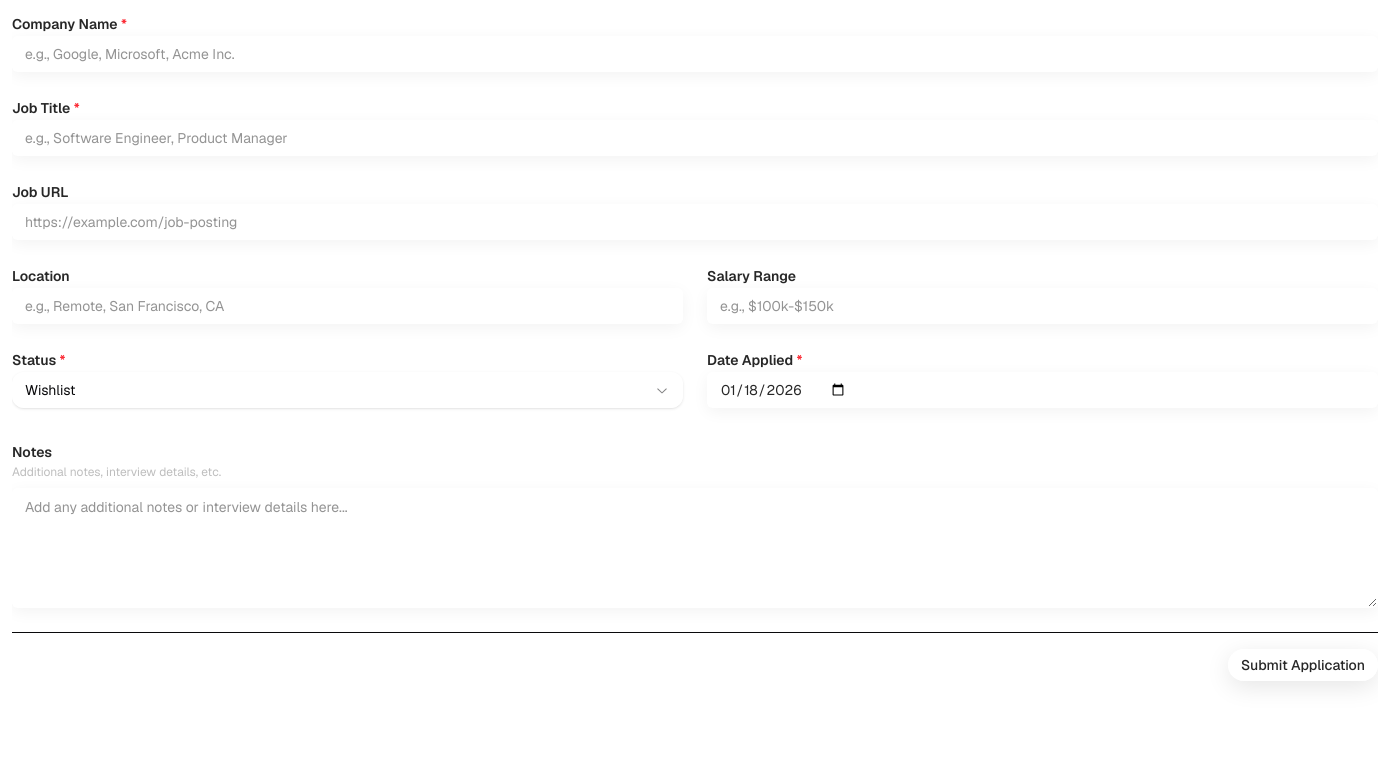
Test case: ApplicationForm › Validation - URL Format › should show error for invalid URL format
Type "Test Company" into the field labelled "Company Name *" at (695, 54), box [12, 36, 1378, 72]
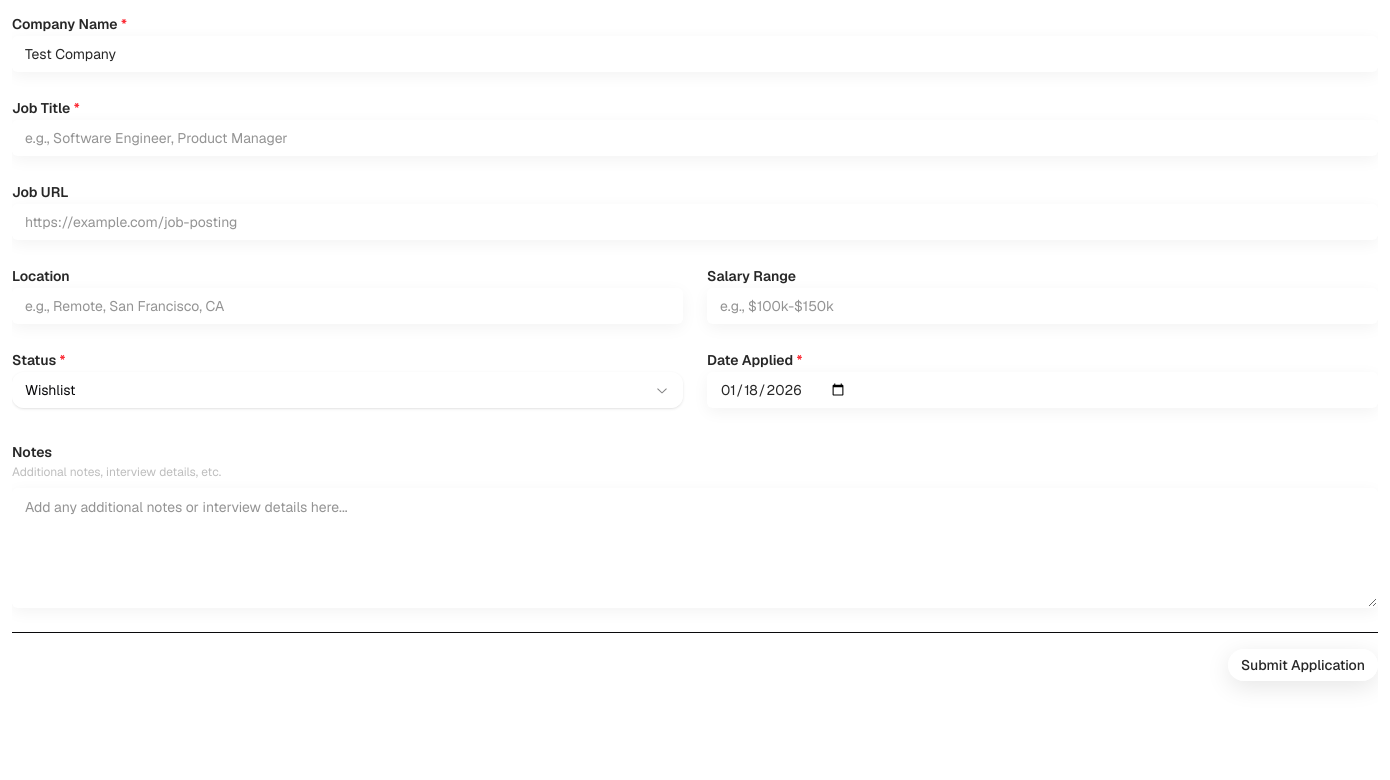
Type "Software Engineer" into the field labelled "Job Title *" at (695, 138), box [12, 120, 1378, 156]
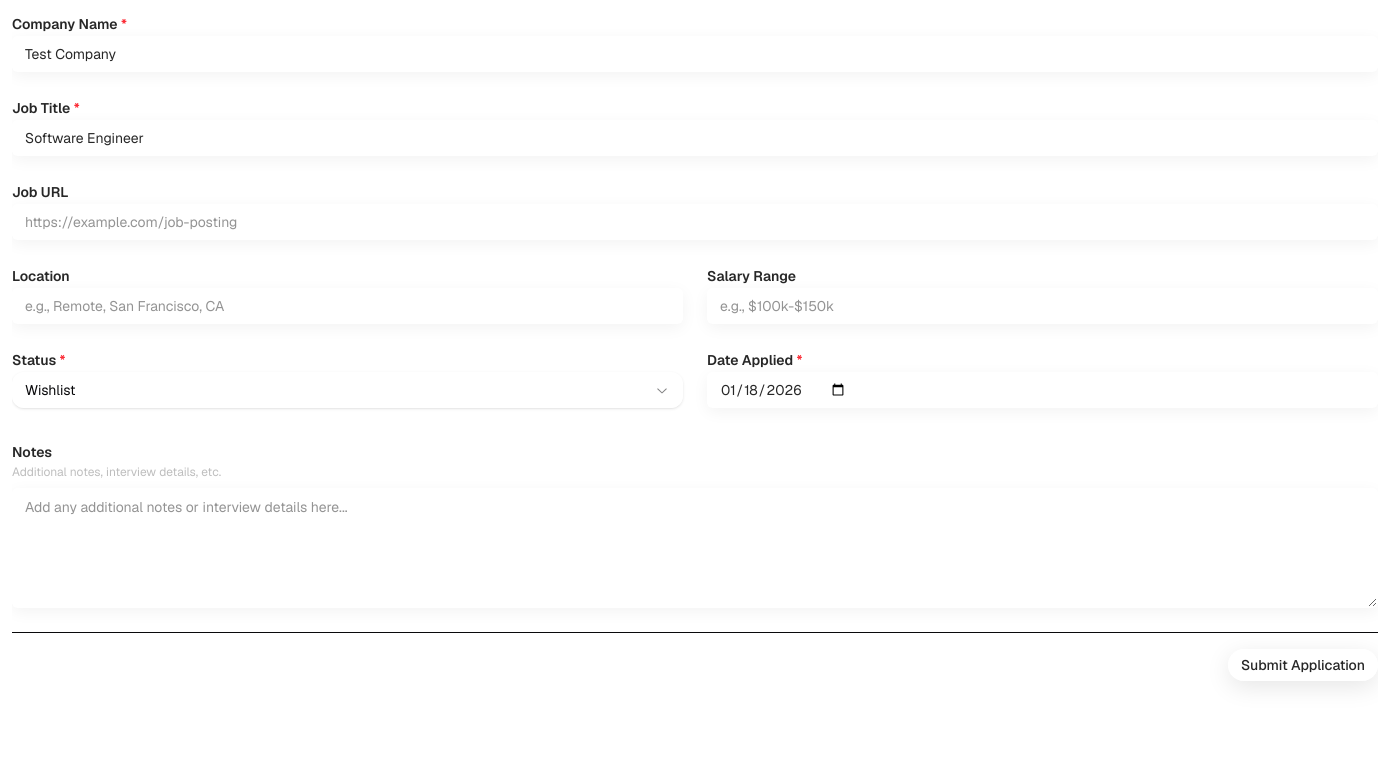
Type "not-a-valid-url" into the field labelled "Job URL" at (695, 222), box [12, 204, 1378, 240]
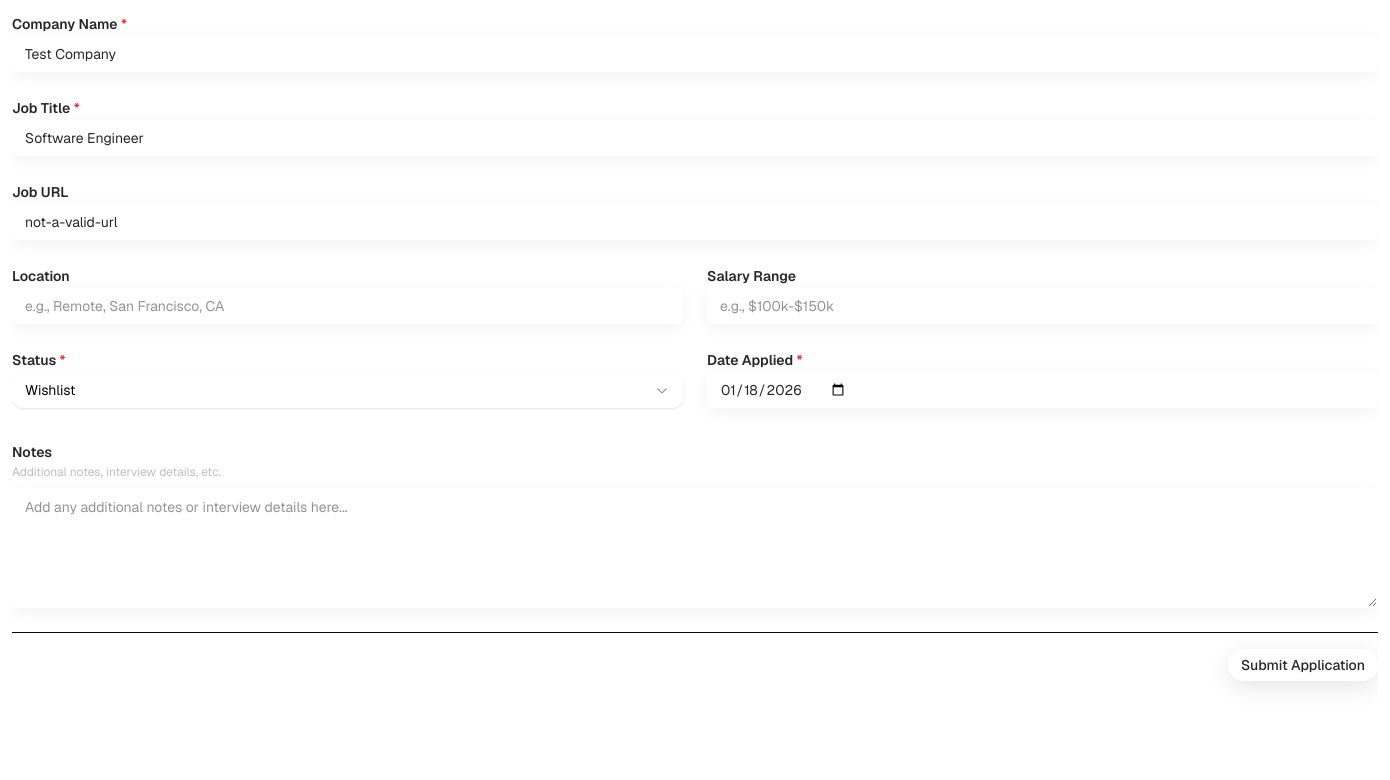
Click the button "Submit Application" at (1303, 665), box [1228, 649, 1378, 681]
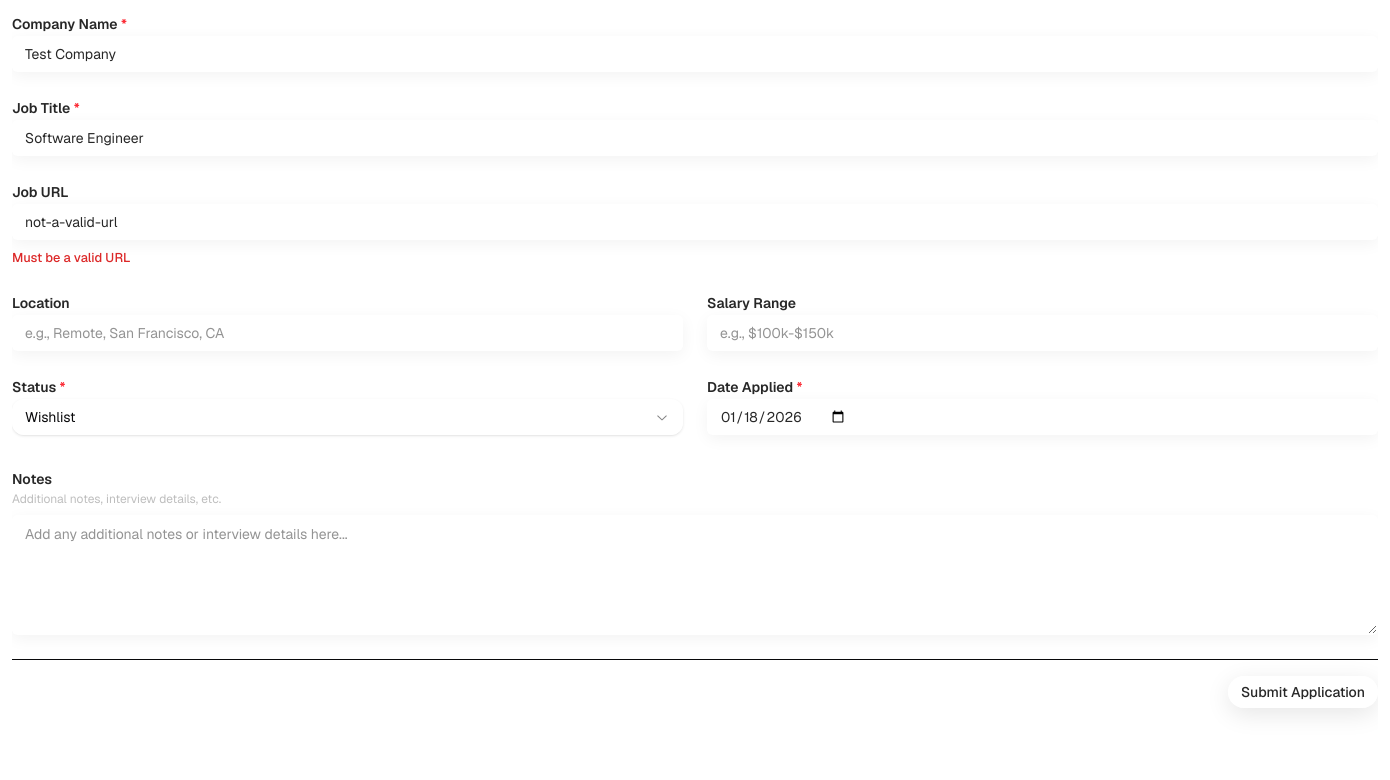
expect the text "Must be a valid URL" is shown: met, box [12, 249, 130, 266]
